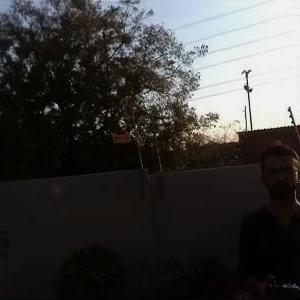follow: (234, 136, 299, 299)
